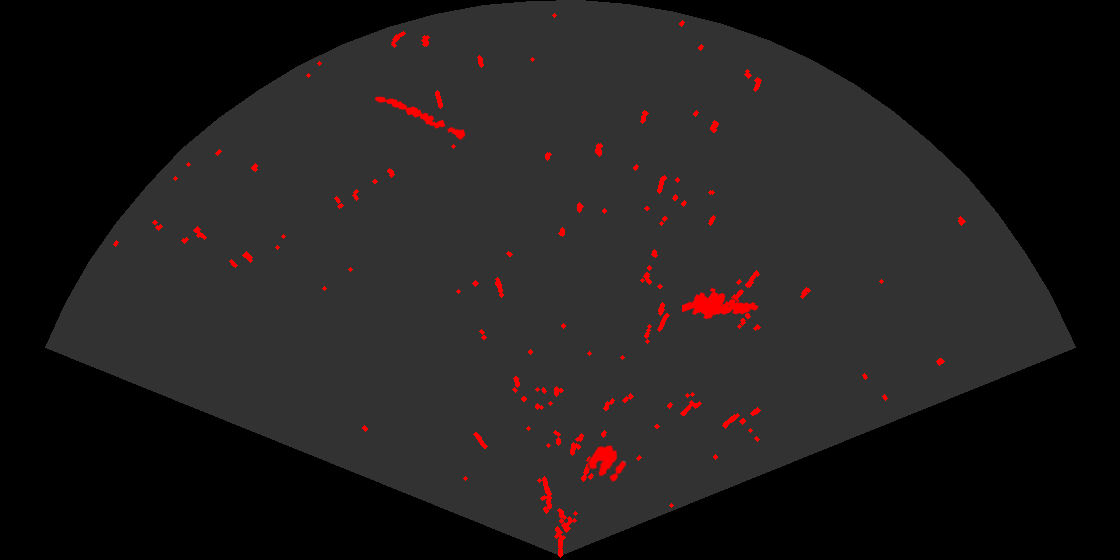ball: (586, 444, 628, 483)
chain: (373, 95, 467, 141)
frogman: (682, 286, 760, 321)
